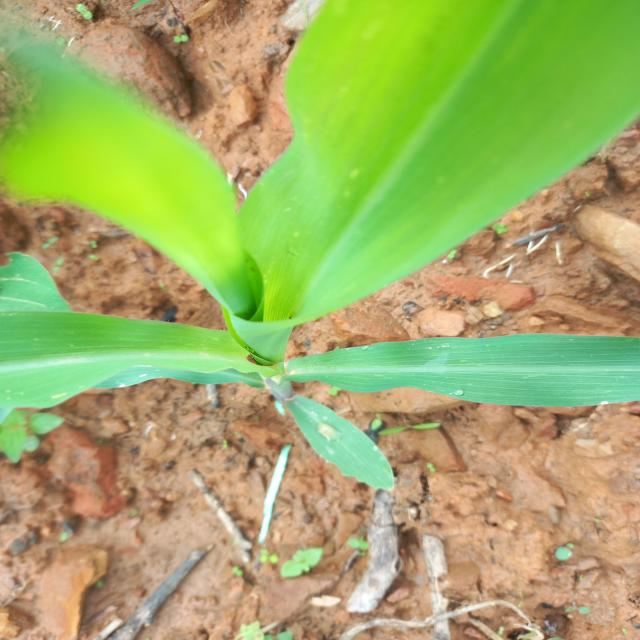maize: (4, 3, 640, 413)
weed: (209, 536, 570, 640), (0, 410, 81, 456)
